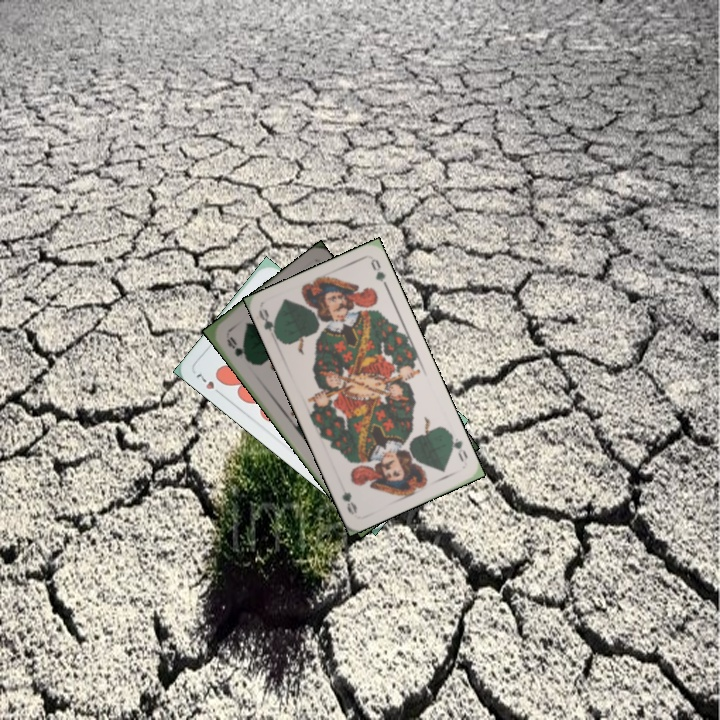GO: (255, 305, 282, 343), (222, 333, 253, 365), (446, 429, 470, 465)
H7: (192, 368, 225, 398)
